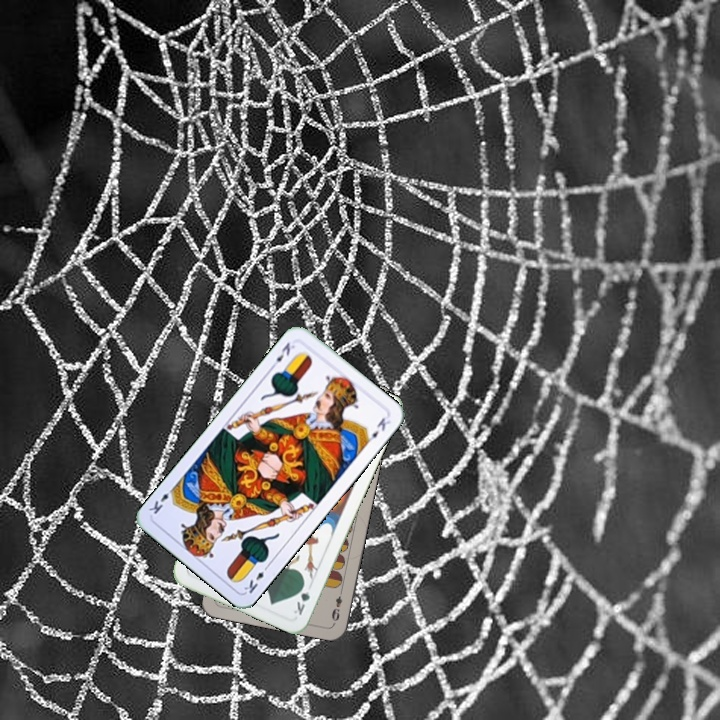E9: (327, 585, 345, 624)
EK: (240, 560, 272, 596), (267, 338, 298, 372)
GK: (289, 578, 312, 618)
